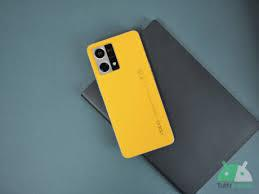Smartphone: (84, 34, 181, 154)
